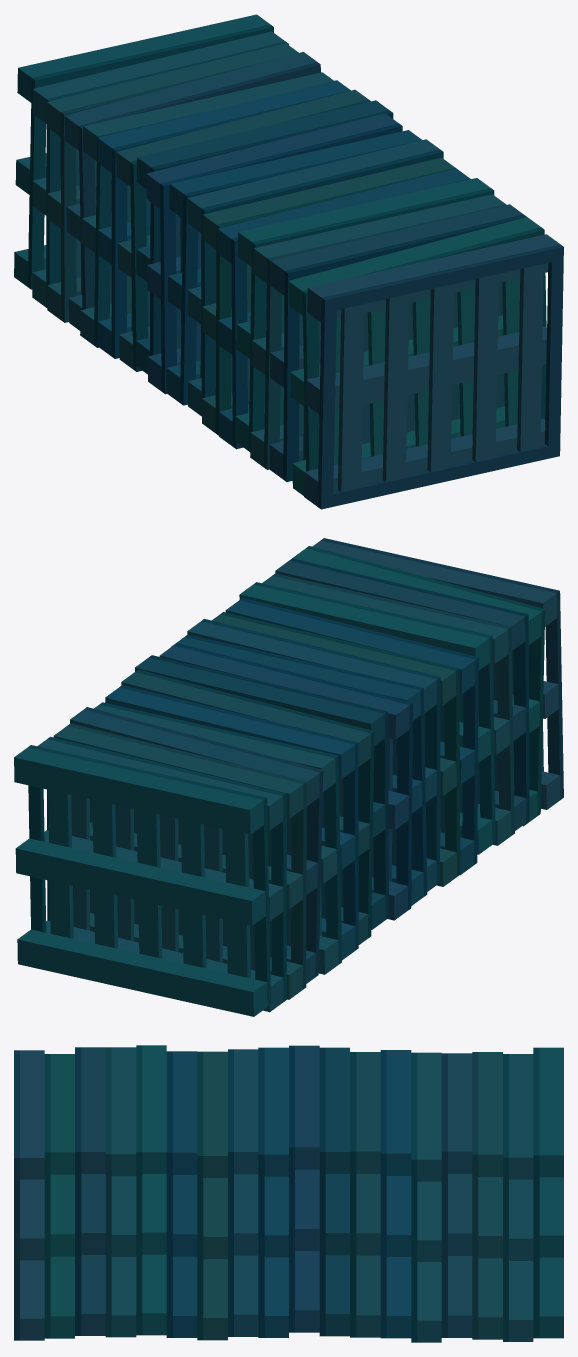
Rendered from pallet_stack_blue.glb.
The picture shows the model from 3 angles, top to bottom: view 1: azimuth 30°, elevation 25°; view 2: azimuth 150°, elevation 25°; view 3: azimuth 270°, elevation 25°; orthographic projection. The views are drawn at different scales.
Parts seen in each view (by area): view 1: world; view 2: world; view 3: world.
Boxes of the visible parts, left/top/right/bottom form: world: left=14, top=14, right=563, bottom=509; world: left=14, top=538, right=563, bottom=1016; world: left=14, top=1045, right=563, bottom=1342.
Size of the model in its own units: 1.25 by 1.06 by 2.7.
